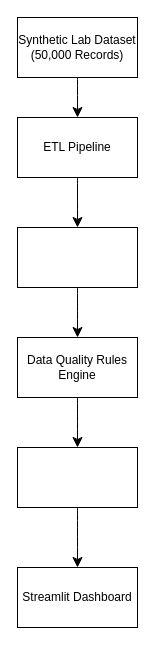
Some shapes in this 155 by 645 pixel diagram are drawn without their labels. The shapes that lost their labels are listed below. From the top down, each one's box as (x1, y1, x2, y2) in pixels, then its label:
(16, 226, 138, 288): SQLite Database
(16, 446, 138, 508): Quality Scores & Failed Records
